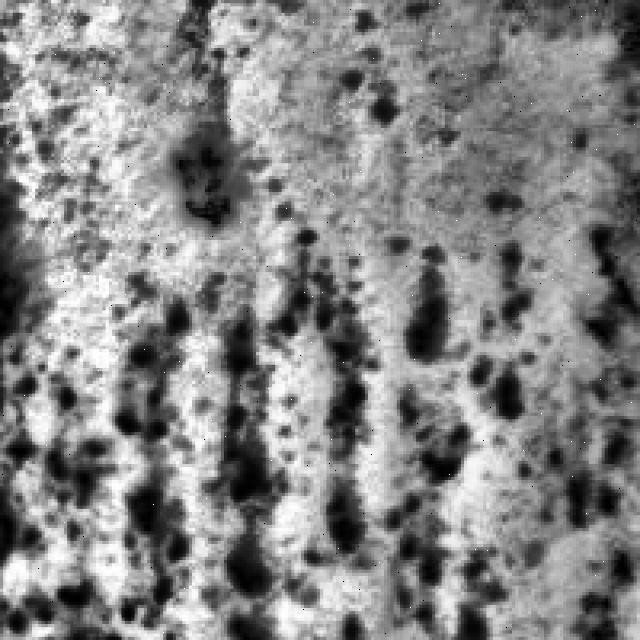Rolled_in_Scale: (208, 208, 627, 611), (0, 284, 202, 634)
Scratches: (160, 119, 246, 234)
